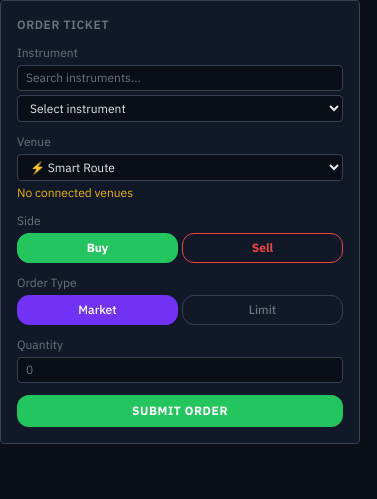
OrderTicket › validates quantity is required
// Select instrument but leave quantity empty
Select "BTC/USD - Bitcoin" in the dropdown labelled "Instrument" at (180, 108), box [17,95,343,122]
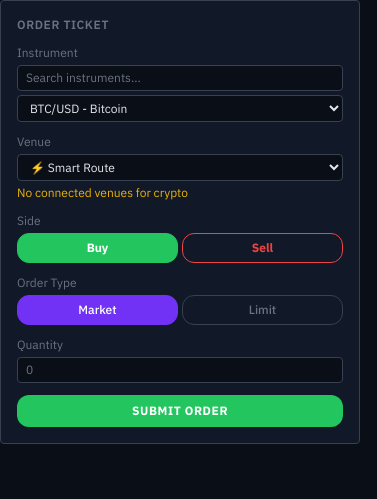
Click the button "Submit Order" at (180, 411), box [17,395,343,427]
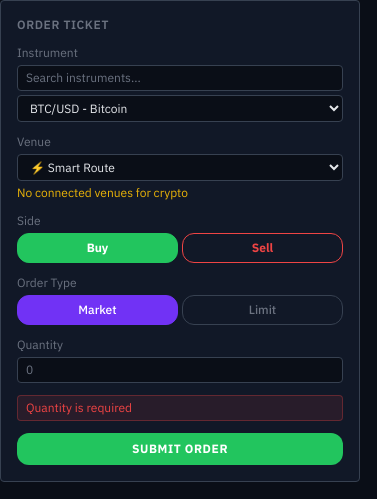
Check: the text "Quantity is required" is shown, box [17,395,343,421]
